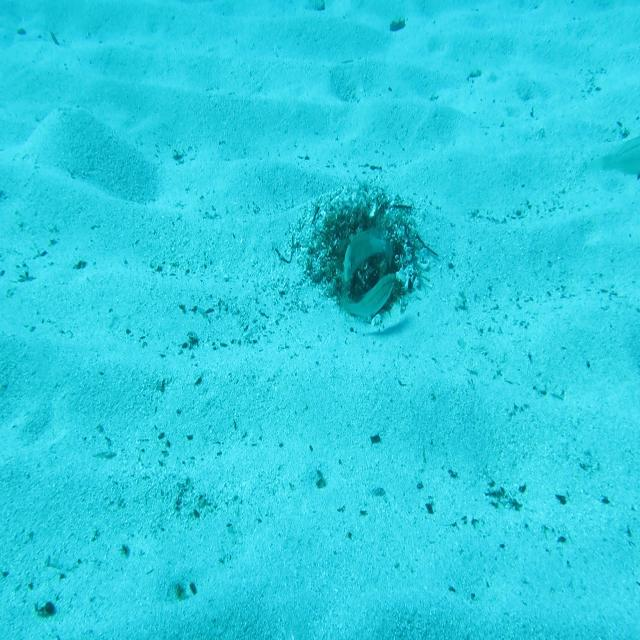DAN_CIRC: (342, 224, 396, 285)
female: (338, 269, 397, 321)
nest: (314, 188, 426, 324)
other_fish: (585, 138, 640, 193)
